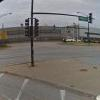Traffic light: (15, 13, 48, 44)
